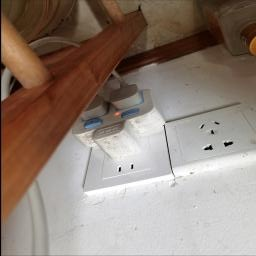outlet: (77, 124, 175, 188), (162, 111, 256, 168)
